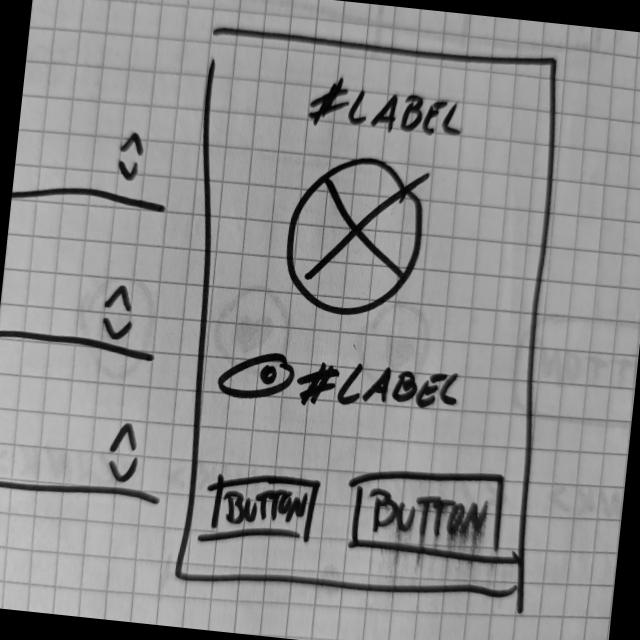button: (346, 456, 510, 567), (204, 464, 322, 550)
container: (147, 19, 579, 620)
image: (277, 146, 433, 325)
label: (293, 352, 472, 426), (301, 71, 471, 144)
number-input: (0, 404, 170, 519), (10, 116, 177, 227), (0, 268, 165, 368)
toggle: (213, 346, 297, 406)
